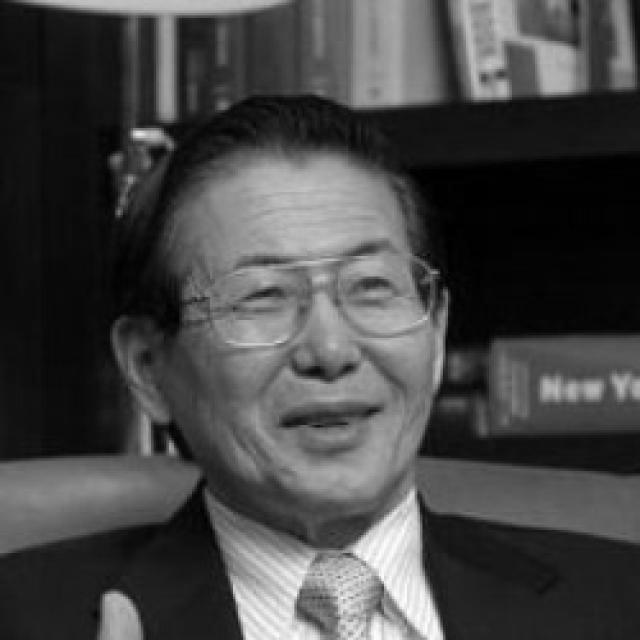real: (140, 146, 488, 510), (221, 263, 416, 328)
